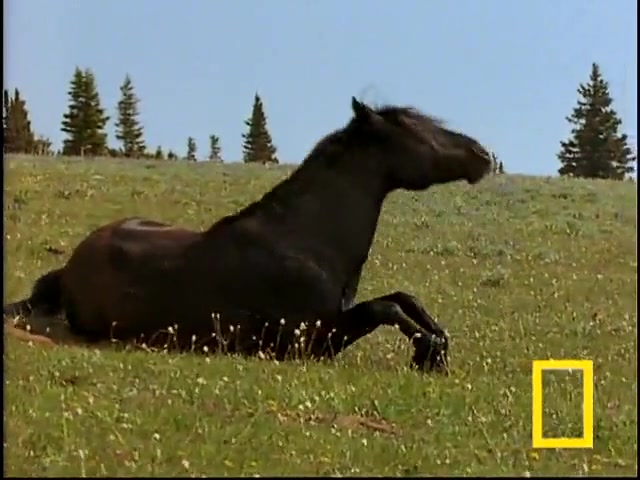horse: (4, 96, 497, 373)
